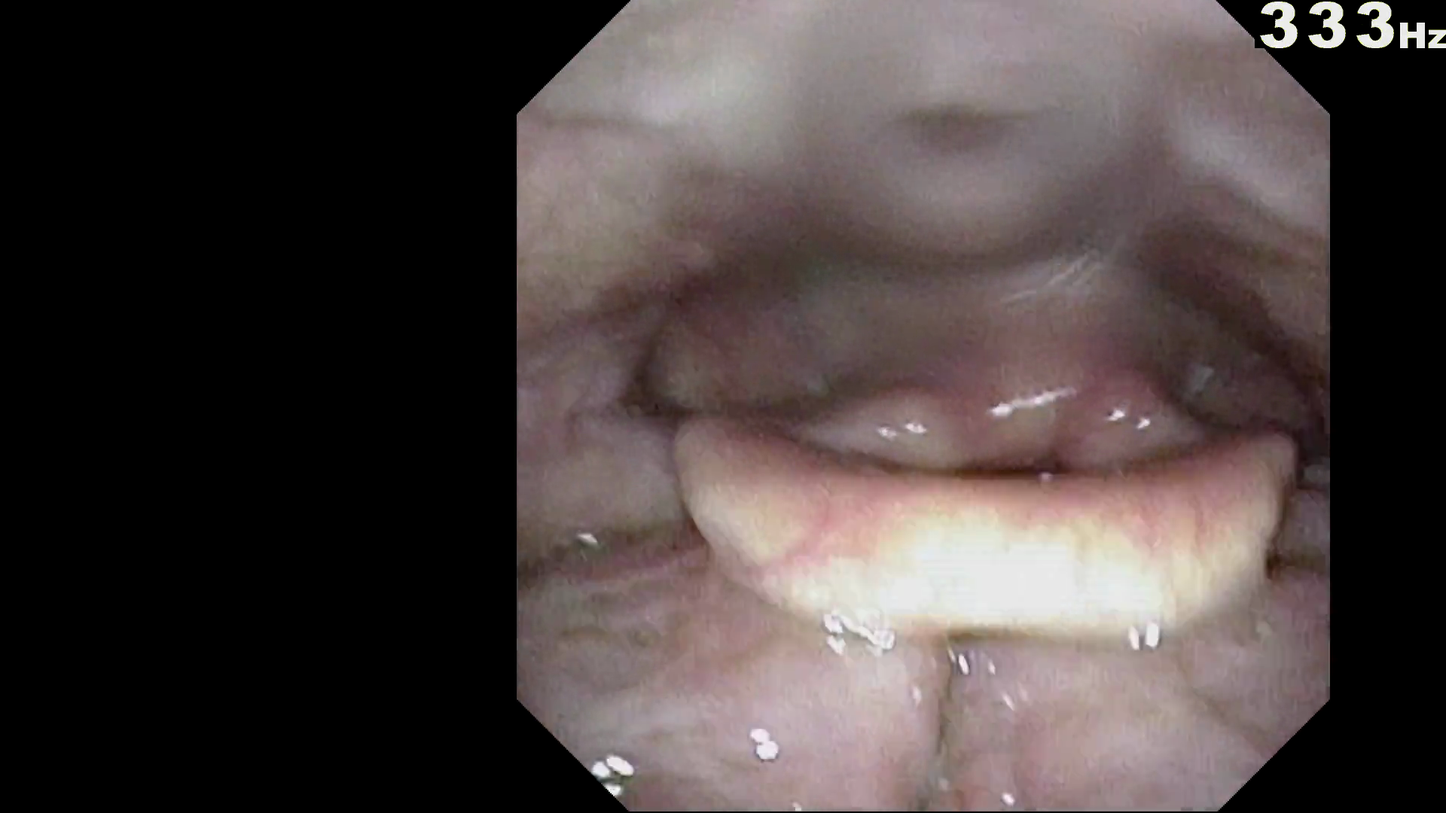epiglottis: (676, 428, 1285, 653)
trachea: (970, 487, 1033, 548)
